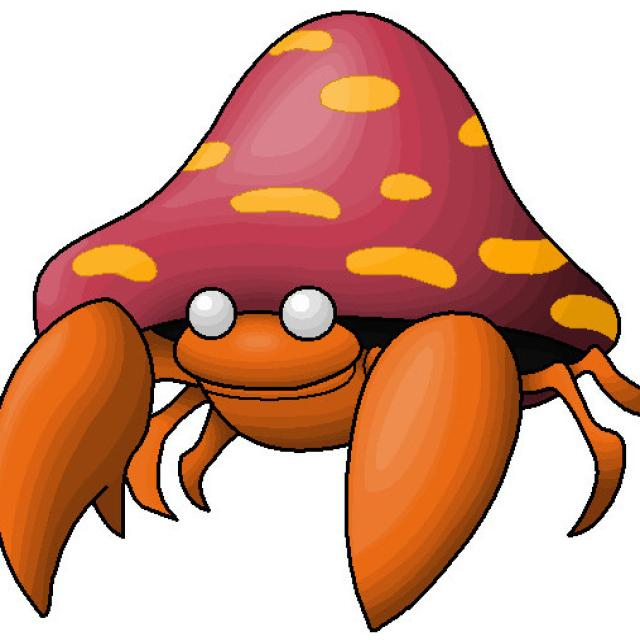Parasect: (5, 106, 607, 568)
